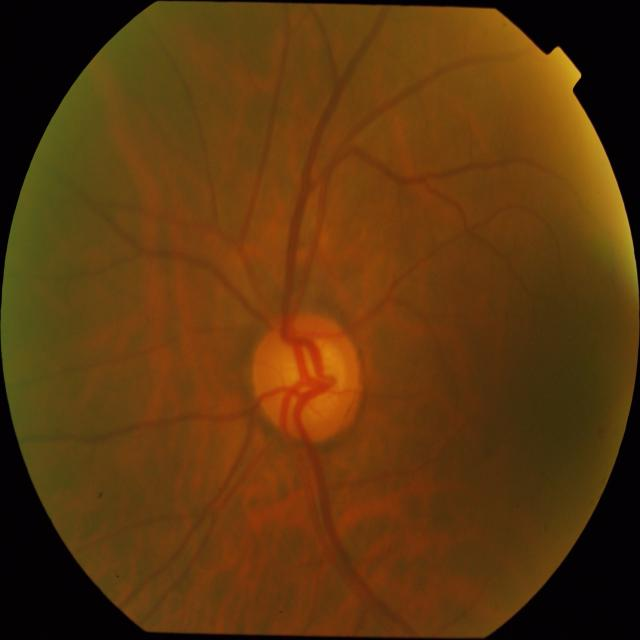OC: (286, 337, 346, 410)
OD: (254, 314, 363, 442)
